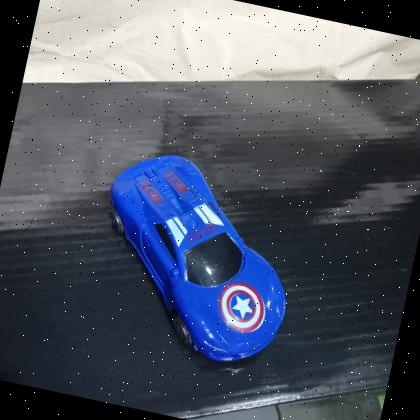Car: (109, 155, 286, 364)
